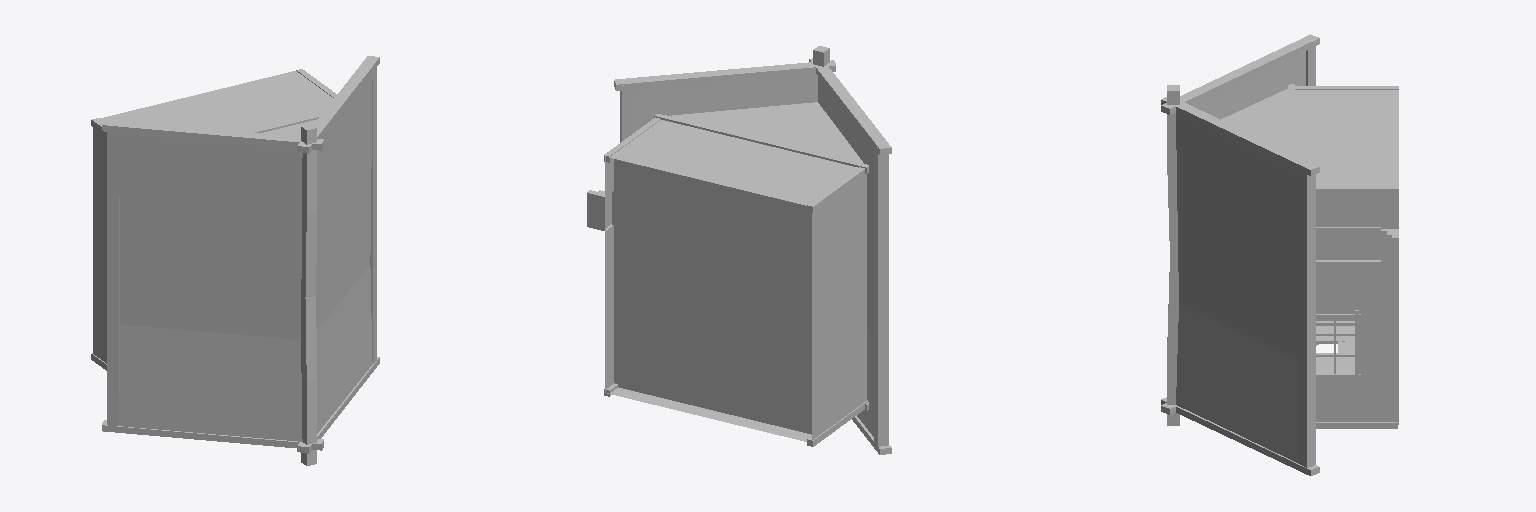
The model's file is WoodHouse.obj.
The picture shows the model from 3 angles: view 1: azimuth 30°, elevation 25°; view 2: azimuth 150°, elevation 25°; view 3: azimuth 270°, elevation 25°; orthographic projection.
Parts seen in each view (by area): view 1: WoodHouse; view 2: WoodHouse; view 3: WoodHouse.
Boxes of the visible parts, <box> form: WoodHouse: <box>91,56,379,465</box>; WoodHouse: <box>587,46,891,454</box>; WoodHouse: <box>1161,34,1398,475</box>.
Size of the model in its own units: 889 by 1025 by 660.